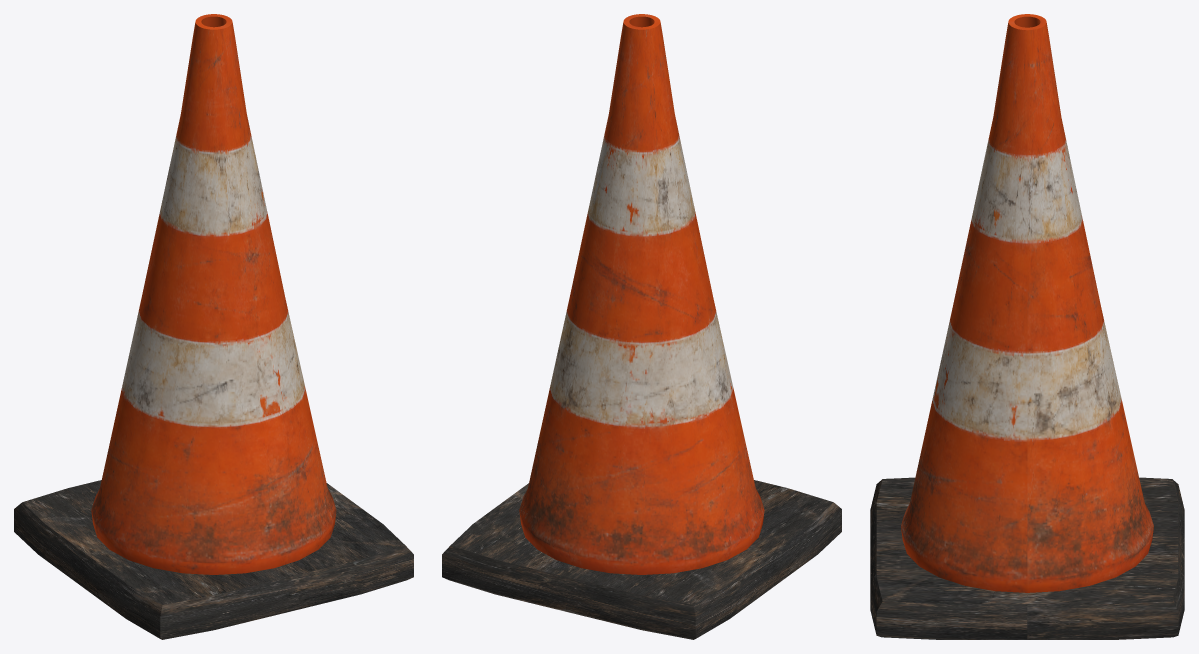
File: ThaiTrafficCone_Worn.fbx
3 renders of one model, left to right at view 1: azimuth 30°, elevation 25°; view 2: azimuth 150°, elevation 25°; view 3: azimuth 270°, elevation 25°, orthographic. The views are drawn at different scales.
Visible parts, largest first — view 1: ThaiTrafficCone_Worn; view 2: ThaiTrafficCone_Worn; view 3: ThaiTrafficCone_Worn.
Boxes of the visible parts, <box> form: ThaiTrafficCone_Worn: <box>14,14,413,639</box>; ThaiTrafficCone_Worn: <box>442,14,841,639</box>; ThaiTrafficCone_Worn: <box>870,14,1184,639</box>.
Bounding box in the file's own units: 36 × 70 × 36.
